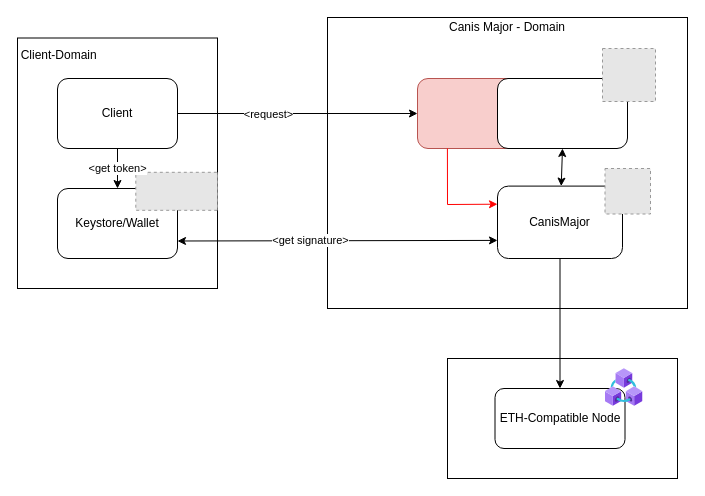
The diagram is 705 pixels wide and 496 high, and some of its shapes have lost their labels. Grey dashed boxes stand in for pictures. Each missing label, with the box of its shape:
ContextBroker (f.e. orion-ld): (496, 78, 628, 148)
Envoy: (416, 78, 588, 148)
Public: (446, 358, 678, 478)
